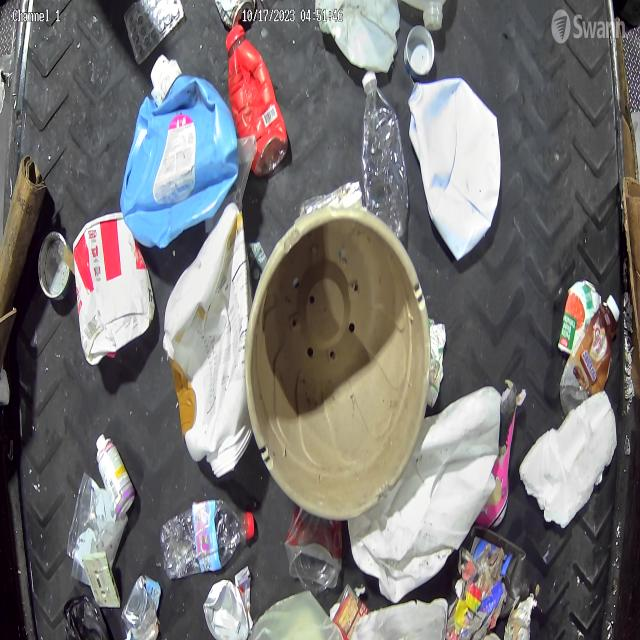can: (560, 280, 600, 358), (37, 229, 74, 302)
milk_jug: (406, 76, 504, 257), (315, 0, 401, 73)
non_white_jug: (119, 52, 241, 244)
plastic_bottle: (361, 72, 409, 240), (162, 499, 255, 579)
